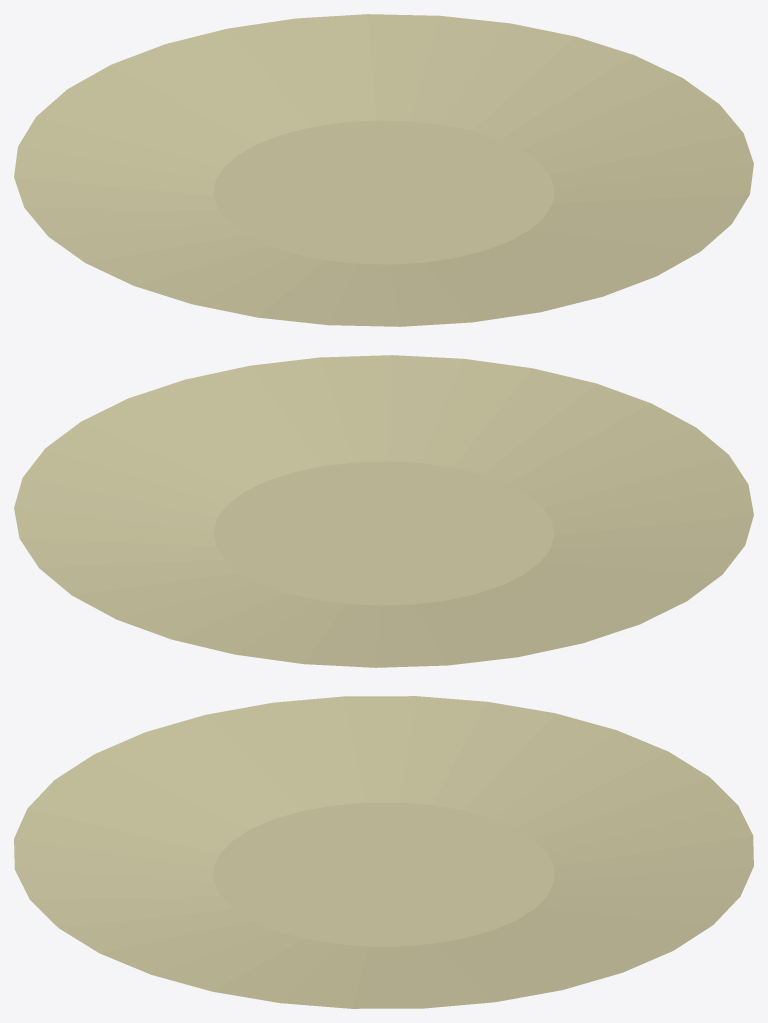
The model's file is assiete .fbx.
The picture shows the model from 3 angles, top to bottom: view 1: azimuth 30°, elevation 25°; view 2: azimuth 150°, elevation 25°; view 3: azimuth 270°, elevation 25°; orthographic projection.
Parts seen in each view (by area): view 1: assiete; view 2: assiete; view 3: assiete.
Boxes of the visible parts, x1,y1,x2,y2 form: assiete: (14, 14, 753, 326); assiete: (14, 355, 753, 667); assiete: (14, 696, 753, 1008).
Size of the model in its own units: 25.9 by 1.62 by 25.9.
